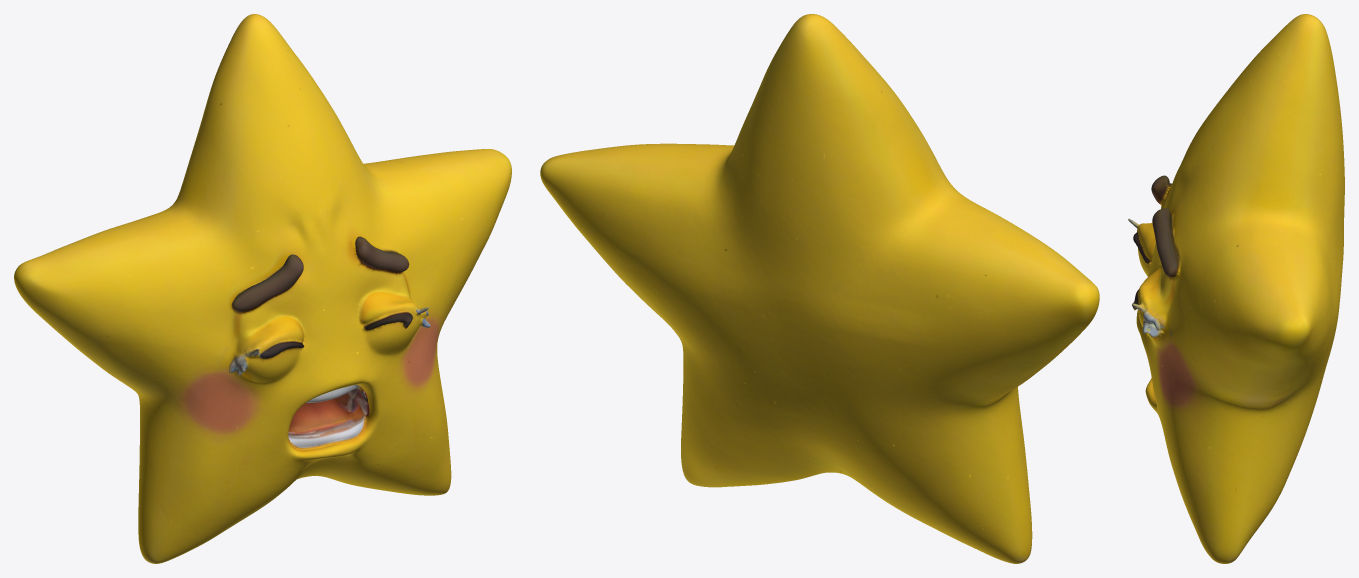
Rendered from Weeping_Star.glb.
The picture shows the model from 3 angles, left to right: view 1: azimuth 30°, elevation 25°; view 2: azimuth 150°, elevation 25°; view 3: azimuth 270°, elevation 25°; orthographic projection. The views are drawn at different scales.
Size of the model in its own units: 2 by 1.88 by 0.77.
Materials: 1 (1 with a texture image).
